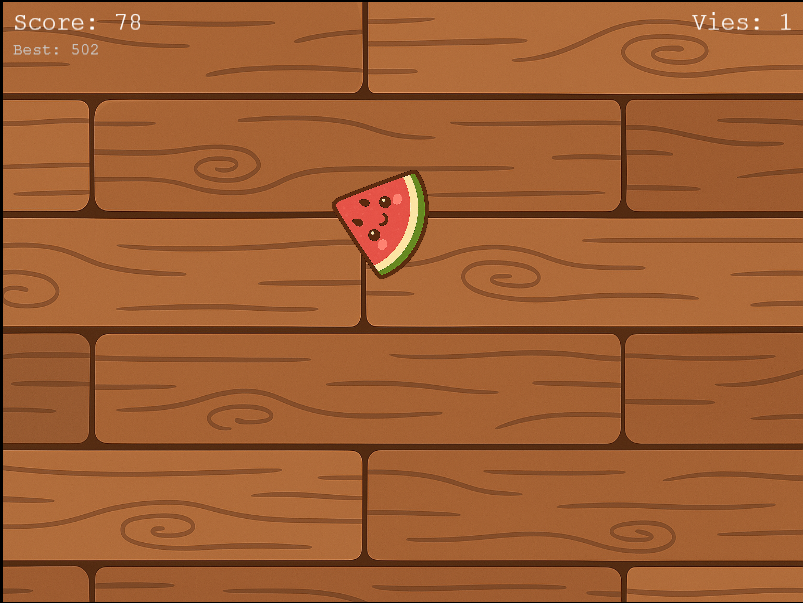fruit: (328, 168, 439, 279)
